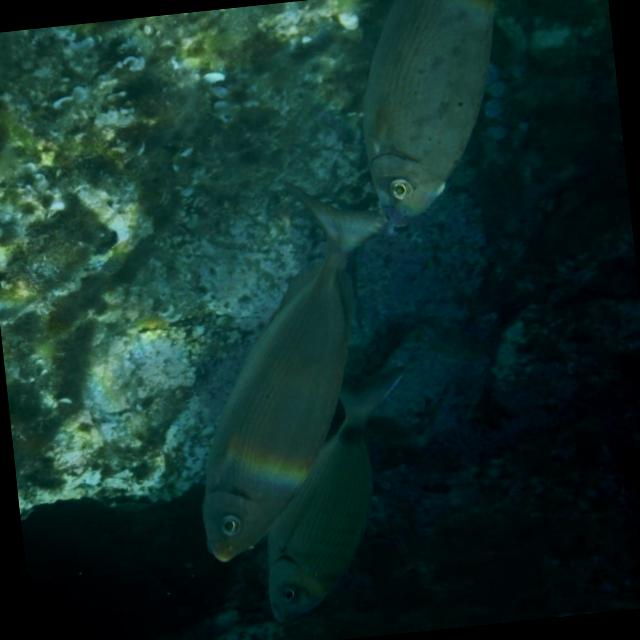Sokar Baligi: (148, 203, 431, 575)
